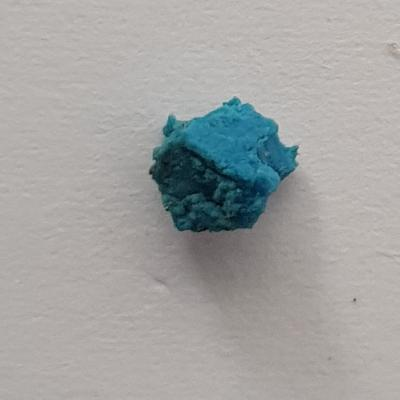plastic: (142, 89, 312, 241)
